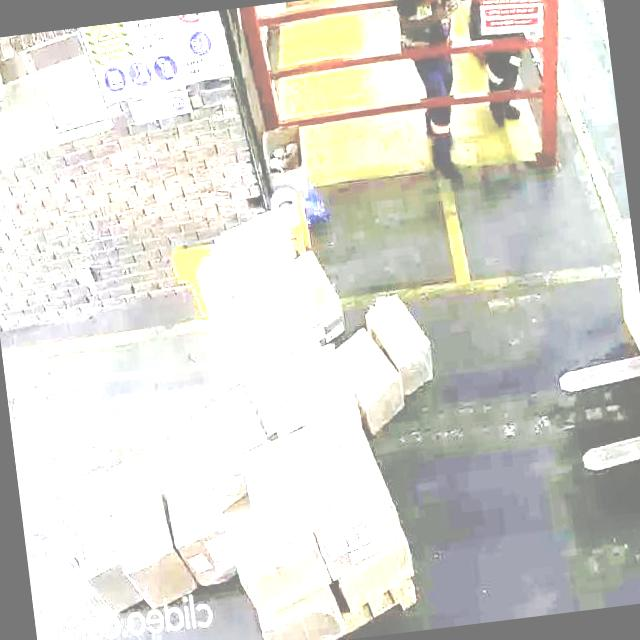Box: (237, 422, 347, 551), (170, 382, 270, 516), (111, 450, 179, 619), (204, 270, 310, 370), (263, 341, 357, 442), (375, 286, 439, 382), (212, 211, 290, 288), (323, 502, 402, 574), (73, 516, 128, 614), (342, 332, 400, 422), (248, 544, 324, 608), (185, 512, 232, 596), (257, 597, 342, 640), (64, 464, 110, 526)
